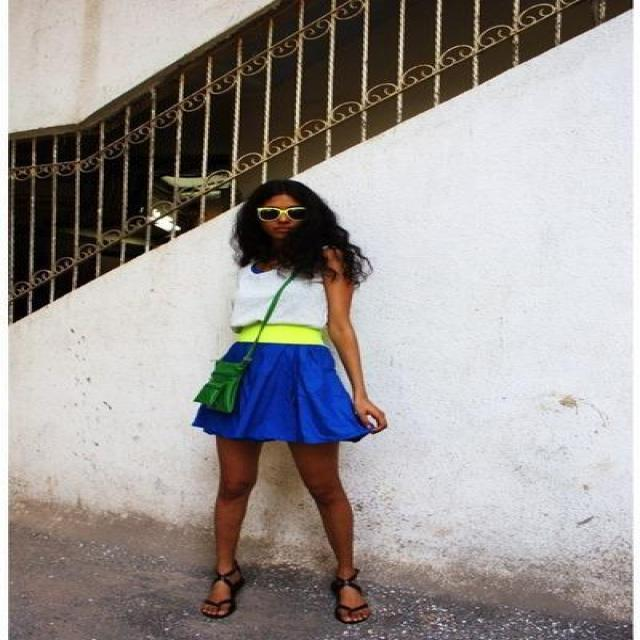bag: (194, 357, 248, 412)
shirt: (232, 264, 326, 319)
shoe: (202, 583, 363, 623)
skirt: (192, 341, 363, 443)
